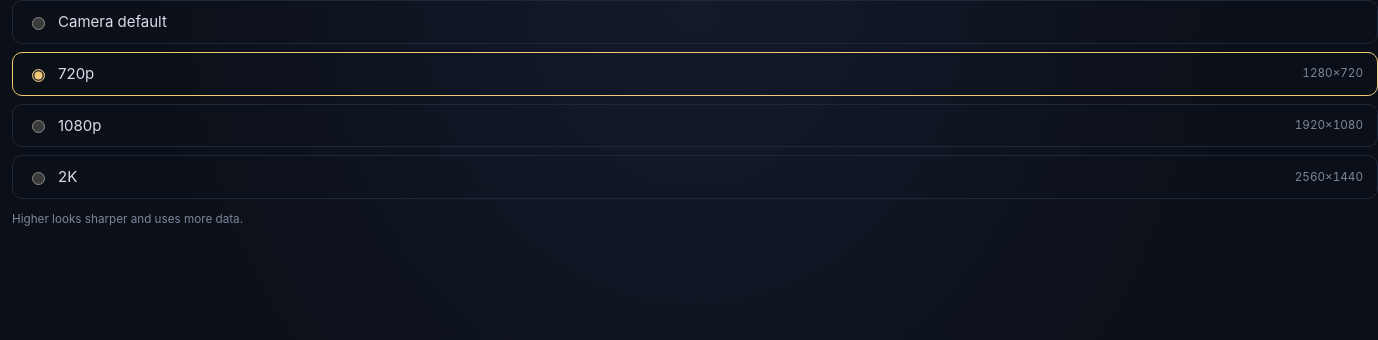
Test case: saves Camera default as null
Click the radio button labelled "Camera default". click: point(38, 23)
box: [32, 17, 45, 30]
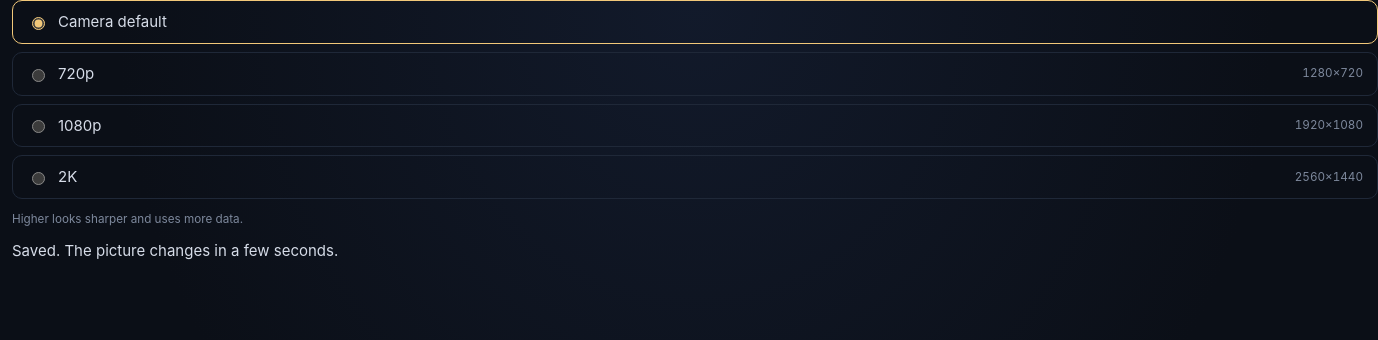
Expected: the text "Saved. The picture changes in a few seconds." is shown, [12, 241, 338, 260]
